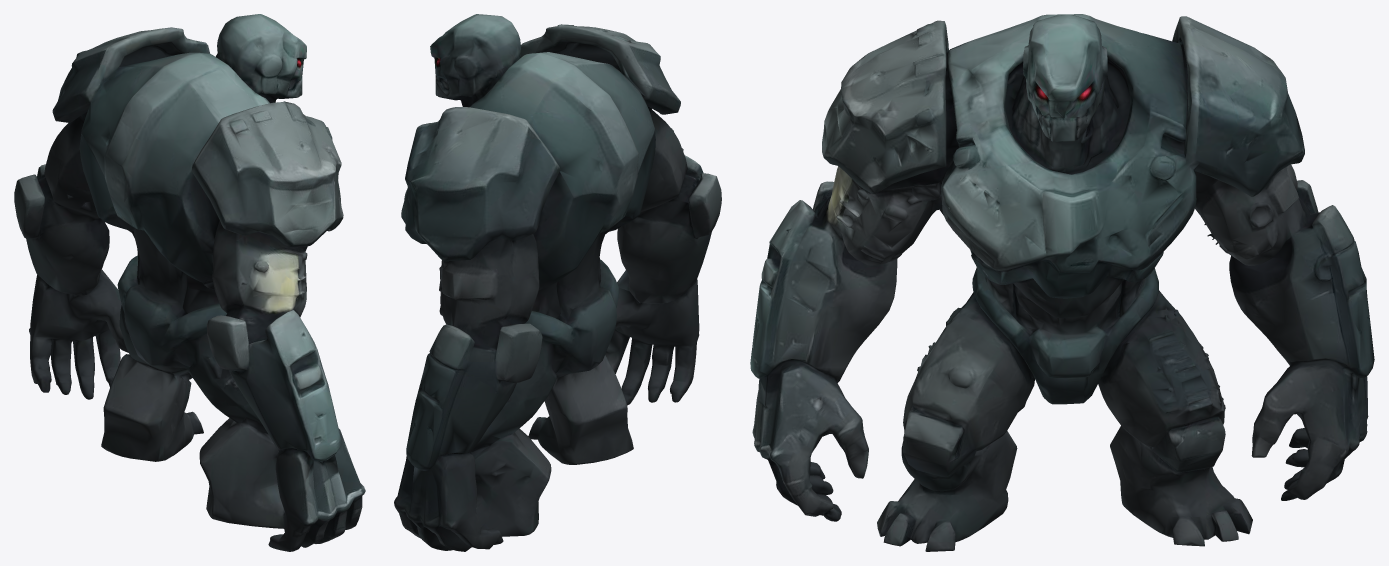
The model's file is titan.glb.
The picture shows the model from 3 angles, left to right: view 1: azimuth 30°, elevation 25°; view 2: azimuth 150°, elevation 25°; view 3: azimuth 270°, elevation 25°; orthographic projection. The views are drawn at different scales.
Visible parts, largest first — view 1: tripo_node_54ac0aa7-e55b-4c3f-a7bc-1d147a7f0e6b; view 2: tripo_node_54ac0aa7-e55b-4c3f-a7bc-1d147a7f0e6b; view 3: tripo_node_54ac0aa7-e55b-4c3f-a7bc-1d147a7f0e6b.
Boxes of the visible parts, x1,y1,x2,y2 form: tripo_node_54ac0aa7-e55b-4c3f-a7bc-1d147a7f0e6b: (14, 14, 365, 551); tripo_node_54ac0aa7-e55b-4c3f-a7bc-1d147a7f0e6b: (394, 14, 721, 551); tripo_node_54ac0aa7-e55b-4c3f-a7bc-1d147a7f0e6b: (750, 14, 1374, 551).
Bounding box in the file's own units: 0.4656 × 0.9358 × 0.9995.
Materials: 1 (1 with a texture image).
